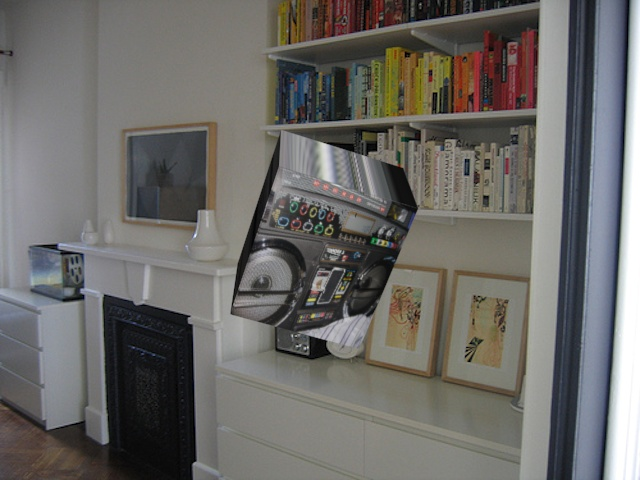file_cabinet: (225, 128, 424, 352)
